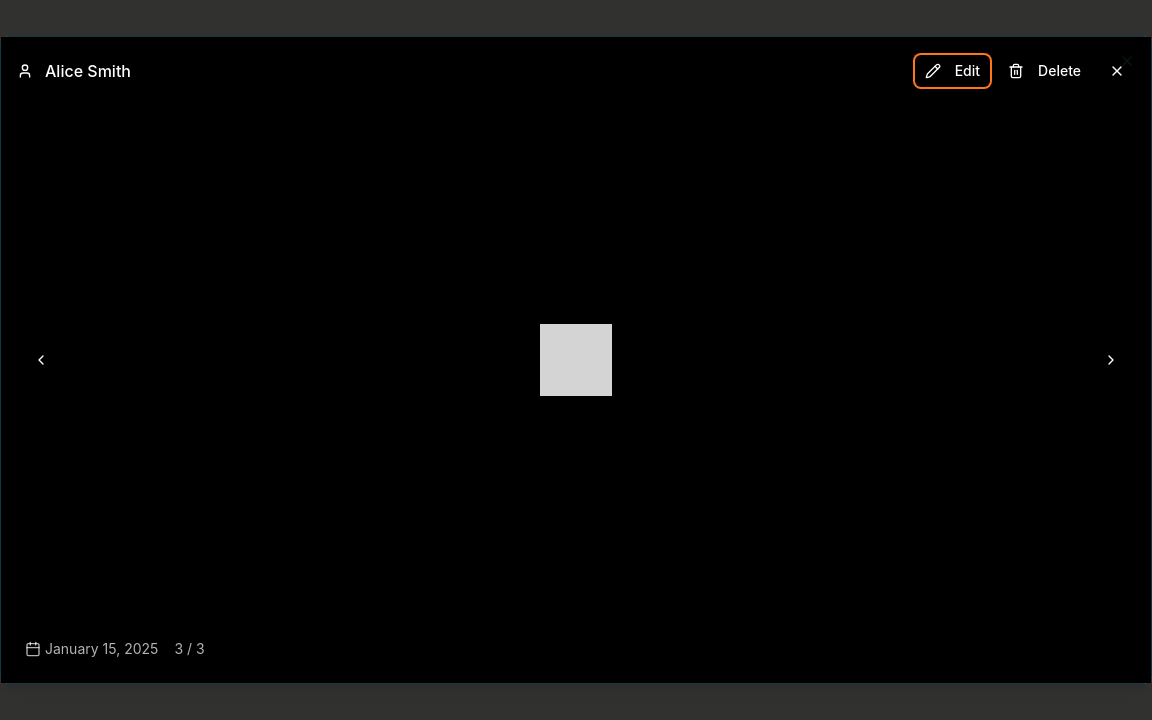
Scenario: PhotoLightbox › Navigation › should loop to start when pressing next on last photo
Click the button named "Next photo" at (1111, 360), box [1087,336,1135,384]
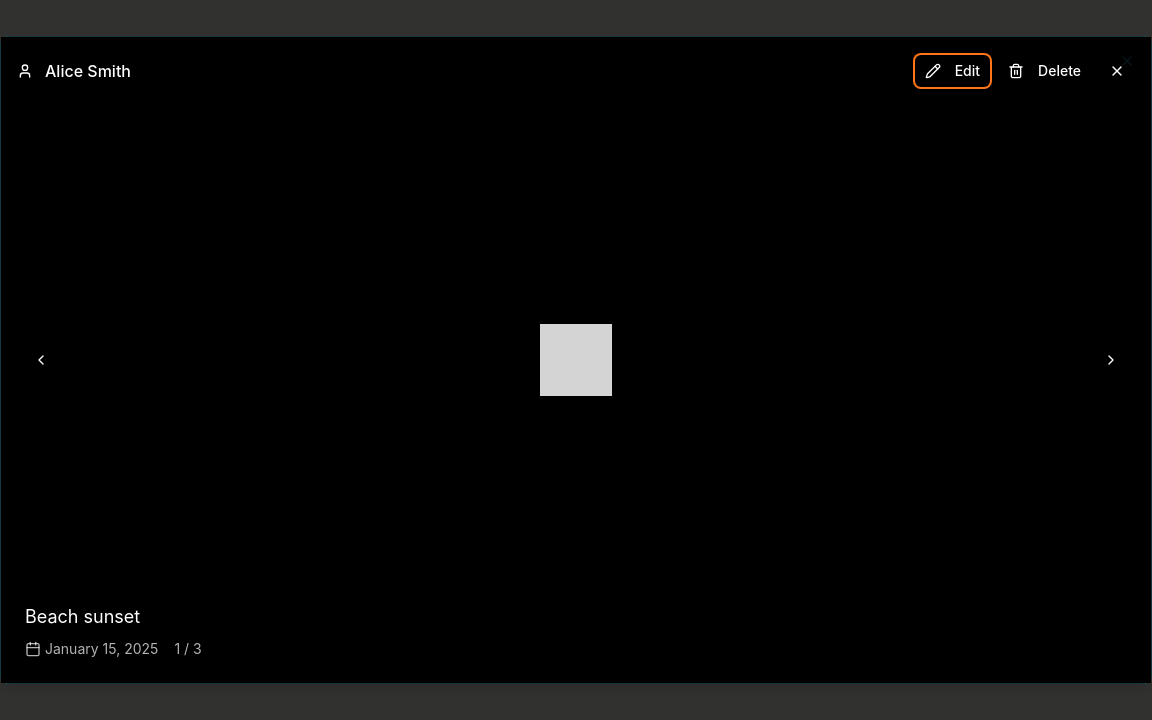
expect the text "1 / 3" is shown: met, box [174,639,202,659]
